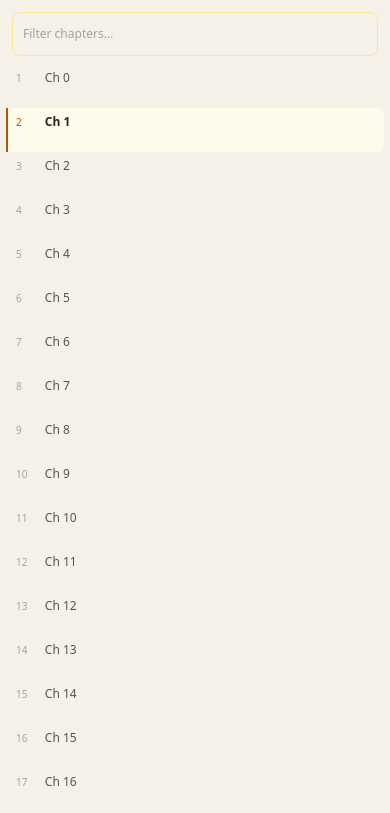
TableOfContents › shows an empty state when nothing matches
The width and height of the screenshot is (390, 813).
Type "zzzz" into the search field at (195, 34), box top-left (12, 12), bottom-right (378, 56)
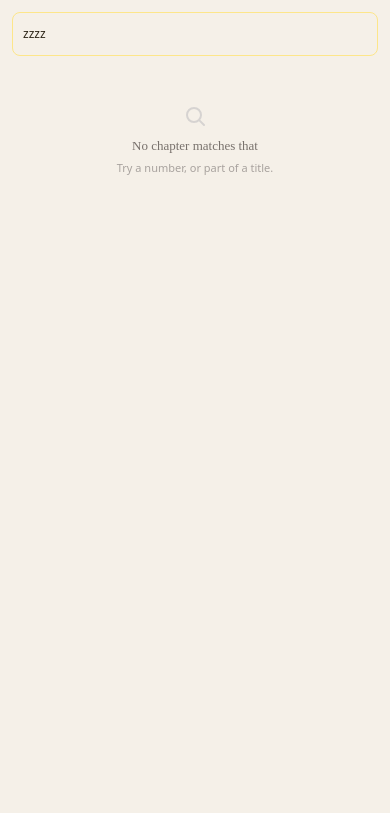
Result: the text "No chapter matches that" is shown at top-left (132, 138), bottom-right (258, 153)
